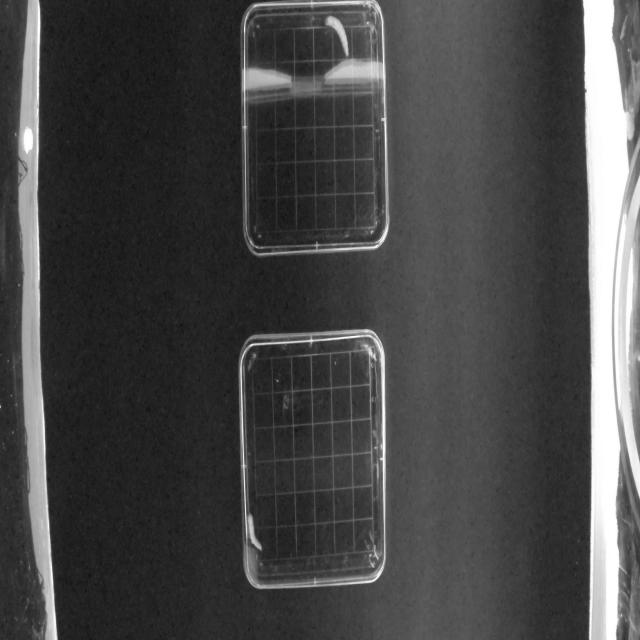larva: (324, 12, 350, 60), (246, 510, 264, 555)
